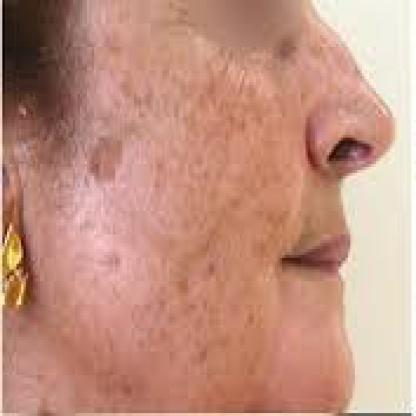darkspot: (172, 50, 263, 351), (70, 123, 143, 398)
